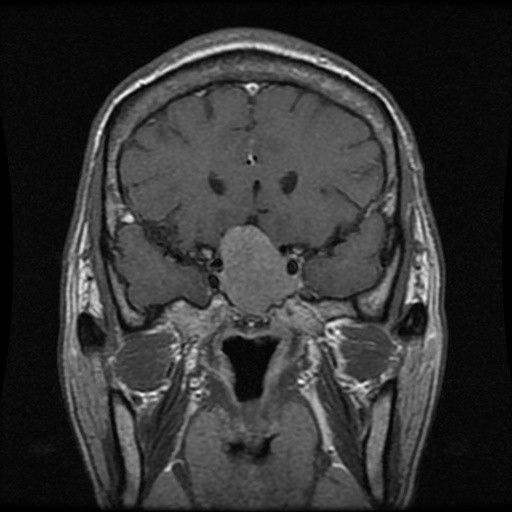pituitary: (220, 226, 294, 311)
